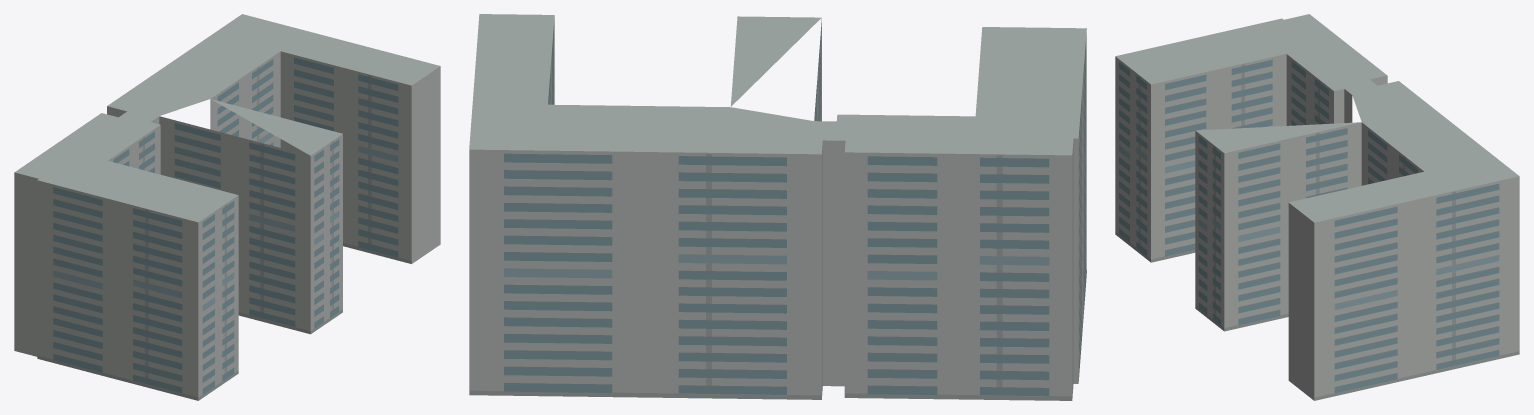
Rendered from residential-78b9a85f-7288-45d3-a0c2-26f33c36588c.glb.
3 renders of one model, left to right at view 1: azimuth 30°, elevation 25°; view 2: azimuth 150°, elevation 25°; view 3: azimuth 270°, elevation 25°, orthographic. The views are drawn at different scales.
Parts seen in each view (by area): view 1: residential-78b9a85f-7288-45d3-a0c2-26f33c36588c.tmp; view 2: residential-78b9a85f-7288-45d3-a0c2-26f33c36588c.tmp; view 3: residential-78b9a85f-7288-45d3-a0c2-26f33c36588c.tmp.
Part boxes in pixels (<box>): residential-78b9a85f-7288-45d3-a0c2-26f33c36588c.tmp: <box>14,14,440,400</box>; residential-78b9a85f-7288-45d3-a0c2-26f33c36588c.tmp: <box>469,14,1086,400</box>; residential-78b9a85f-7288-45d3-a0c2-26f33c36588c.tmp: <box>1115,14,1519,400</box>.
Bounding box in the file's own units: 136 × 54 × 111.
